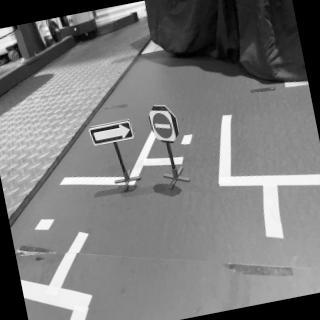sign_noentry: (149, 107, 178, 146)
sign_oneway_right: (88, 118, 136, 148)
